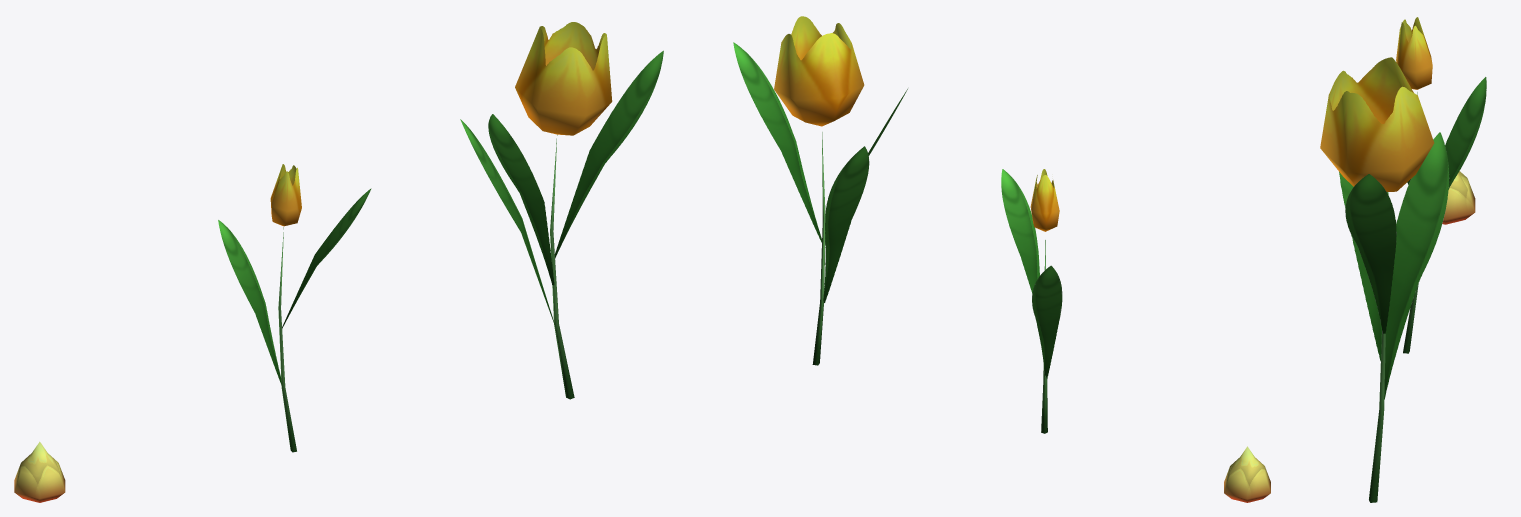
Rendered from Tulip_Yellow_Lv.FBX.
The picture shows the model from 3 angles, left to right: view 1: azimuth 30°, elevation 25°; view 2: azimuth 150°, elevation 25°; view 3: azimuth 270°, elevation 25°; orthographic projection. The views are drawn at different scales.
Visible parts, largest first — view 1: Tulip_Yellow_Lv3, Tulip_Yellow_Lv2, Tulip_Yellow_Lv1; view 2: Tulip_Yellow_Lv3, Tulip_Yellow_Lv2, Tulip_Yellow_Lv1; view 3: Tulip_Yellow_Lv3, Tulip_Yellow_Lv2, Tulip_Yellow_Lv1.
Part boxes in pixels (left/top/right/bottom): Tulip_Yellow_Lv3: left=460, top=22, right=663, bottom=399; Tulip_Yellow_Lv2: left=218, top=164, right=371, bottom=452; Tulip_Yellow_Lv1: left=14, top=441, right=65, bottom=502; Tulip_Yellow_Lv3: left=733, top=16, right=907, bottom=365; Tulip_Yellow_Lv2: left=1001, top=169, right=1062, bottom=433; Tulip_Yellow_Lv1: left=1224, top=446, right=1270, bottom=502; Tulip_Yellow_Lv3: left=1320, top=57, right=1449, bottom=502; Tulip_Yellow_Lv2: left=1396, top=17, right=1486, bottom=353; Tulip_Yellow_Lv1: left=1442, top=171, right=1475, bottom=224.
Bounding box in the file's own units: 193 × 112 × 48.18.
